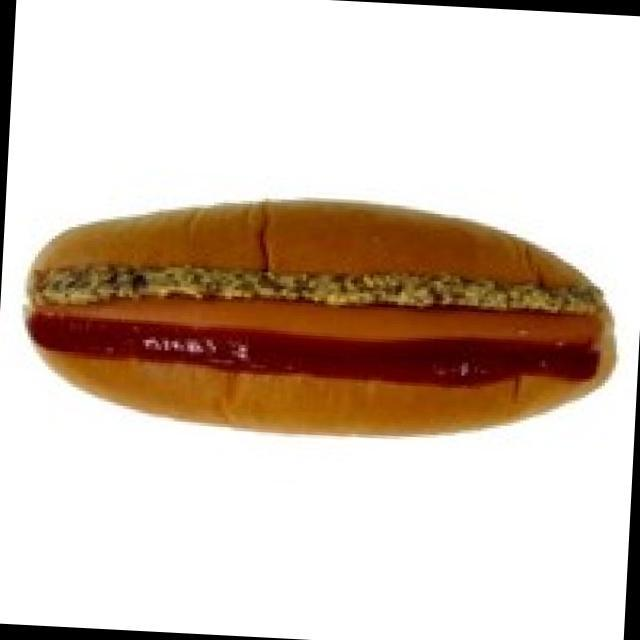Hot Dog: (17, 178, 638, 466)
